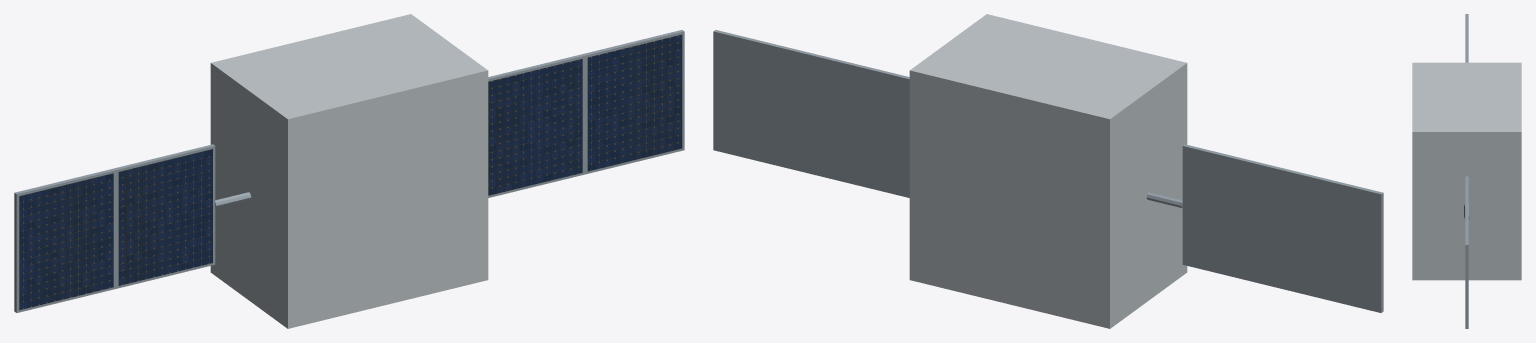
The model's file is ref-by04-100469.glb.
The picture shows the model from 3 angles, left to right: view 1: azimuth 30°, elevation 25°; view 2: azimuth 150°, elevation 25°; view 3: azimuth 270°, elevation 25°; orthographic projection. The views are drawn at different scales.
Visible parts, largest first — view 1: Spacecraft body, Photovoltaic laminates (×4), Array frame (×4); view 2: Spacecraft body, Array frame (×4); view 3: Spacecraft body, Array frame (×3).
Part boxes in pixels (x1=…): Spacecraft body: x1=210, y1=14, x2=488, y2=328; Photovoltaic laminates (×4): x1=19, y1=34, x2=682, y2=310; Array frame (×4): x1=14, y1=30, x2=684, y2=312; Spacecraft body: x1=909, y1=14, x2=1187, y2=328; Array frame (×4): x1=713, y1=30, x2=1383, y2=312; Spacecraft body: x1=1412, y1=62, x2=1521, y2=280; Array frame (×3): x1=1465, y1=14, x2=1468, y2=328.
Size of the model in its own units: 1 by 0.3 by 0.2.
3 materials, 1 textured.
